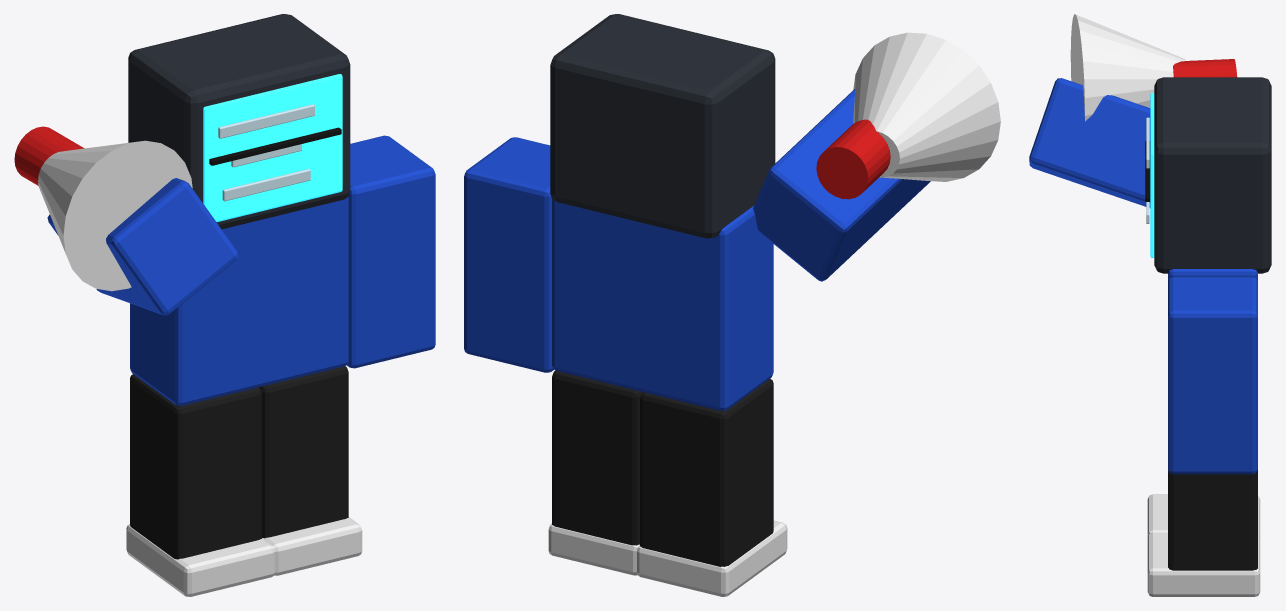
Rendered from 07_Chat.glb.
The picture shows the model from 3 angles, left to right: view 1: azimuth 30°, elevation 25°; view 2: azimuth 150°, elevation 25°; view 3: azimuth 270°, elevation 25°; orthographic projection. The views are drawn at different scales.
Parts seen in each view (by area): view 1: Torso, RightLeg, MonitorFrame, LeftArm, LeftLeg, Screen, Mega, RightArm, ShoeR, ShoeL, MegaBody, Line (+2 smaller); view 2: MonitorFrame, Torso, RightLeg, LeftArm, Mega, LeftLeg, RightArm, ShoeR, MegaBody, ShoeL; view 3: MonitorFrame, LeftArm, RightArm, LeftLeg, Mega, ShoeL, MegaBody, ShoeR, Screen, Torso.
Part boxes in pixels (x1,y1,x2,y2): Torso: (130, 197, 348, 405); RightLeg: (130, 374, 261, 559); MonitorFrame: (128, 14, 350, 229); LeftArm: (346, 135, 435, 368); LeftLeg: (259, 366, 348, 538); Screen: (203, 74, 342, 221); Mega: (38, 140, 192, 291); RightArm: (47, 178, 238, 315); ShoeR: (126, 524, 274, 596); ShoeL: (262, 517, 362, 575); MegaBody: (14, 126, 84, 185); Line: (218, 104, 314, 138); MonitorFrame: (550, 14, 775, 238); Torso: (552, 199, 773, 410); RightLeg: (640, 379, 773, 566); LeftArm: (464, 137, 553, 372); Mega: (853, 32, 1000, 181); LeftLeg: (552, 370, 642, 545); RightArm: (753, 89, 930, 281); ShoeR: (637, 520, 787, 596); MegaBody: (816, 119, 890, 199); ShoeL: (548, 523, 639, 575); MonitorFrame: (1154, 77, 1271, 273); LeftArm: (1168, 277, 1257, 474); RightArm: (1029, 78, 1150, 207); LeftLeg: (1168, 470, 1257, 570); Mega: (1070, 14, 1185, 121); ShoeL: (1147, 532, 1260, 596); MegaBody: (1173, 59, 1237, 77); ShoeR: (1147, 494, 1260, 536); Screen: (1150, 93, 1154, 257); Torso: (1168, 269, 1257, 281).
Bounding box in the file's own units: 4.94 × 5.61 × 2.68.
